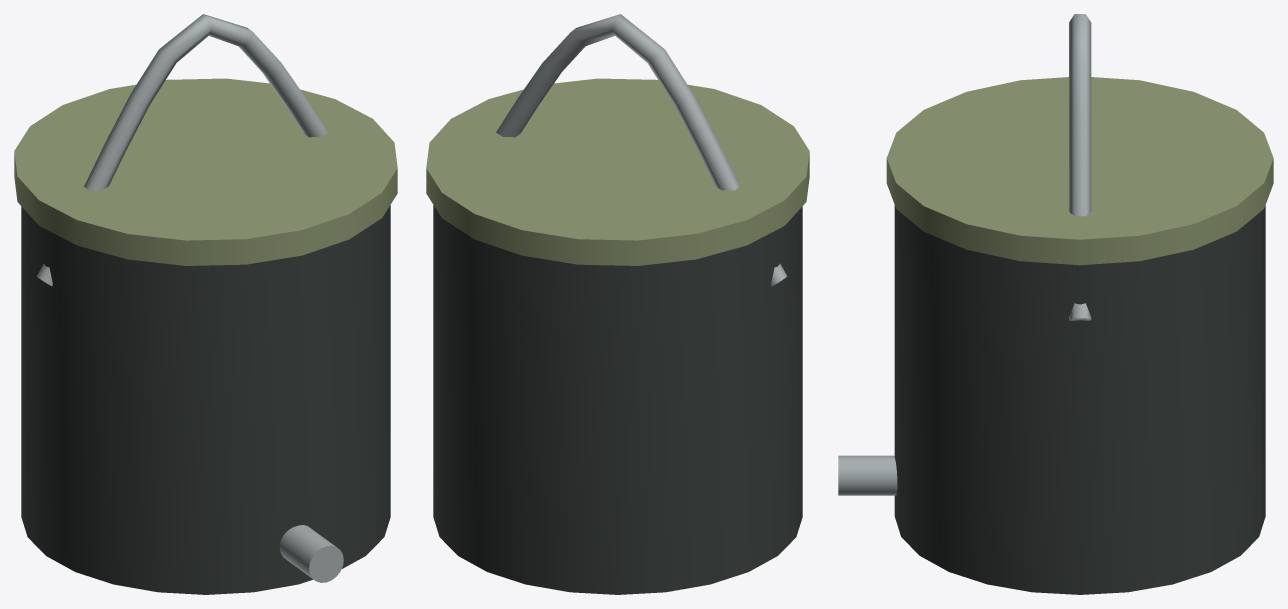
File: survival-greenhouse-and-irrigation-bokashi-bucket-00bdc52e__21341.glb
3 views of the same model, side by side, from view 1: azimuth 30°, elevation 25°; view 2: azimuth 150°, elevation 25°; view 3: azimuth 270°, elevation 25° (orthographic).
Parts seen in each view (by area): view 1: bokashi-bucket; view 2: bokashi-bucket; view 3: bokashi-bucket.
Boxes of the visible parts, <box> form: bokashi-bucket: <box>14,14,397,594</box>; bokashi-bucket: <box>426,14,809,594</box>; bokashi-bucket: <box>838,14,1273,594</box>.
Size of the model in its own units: 0.48 by 0.7121 by 0.54.
